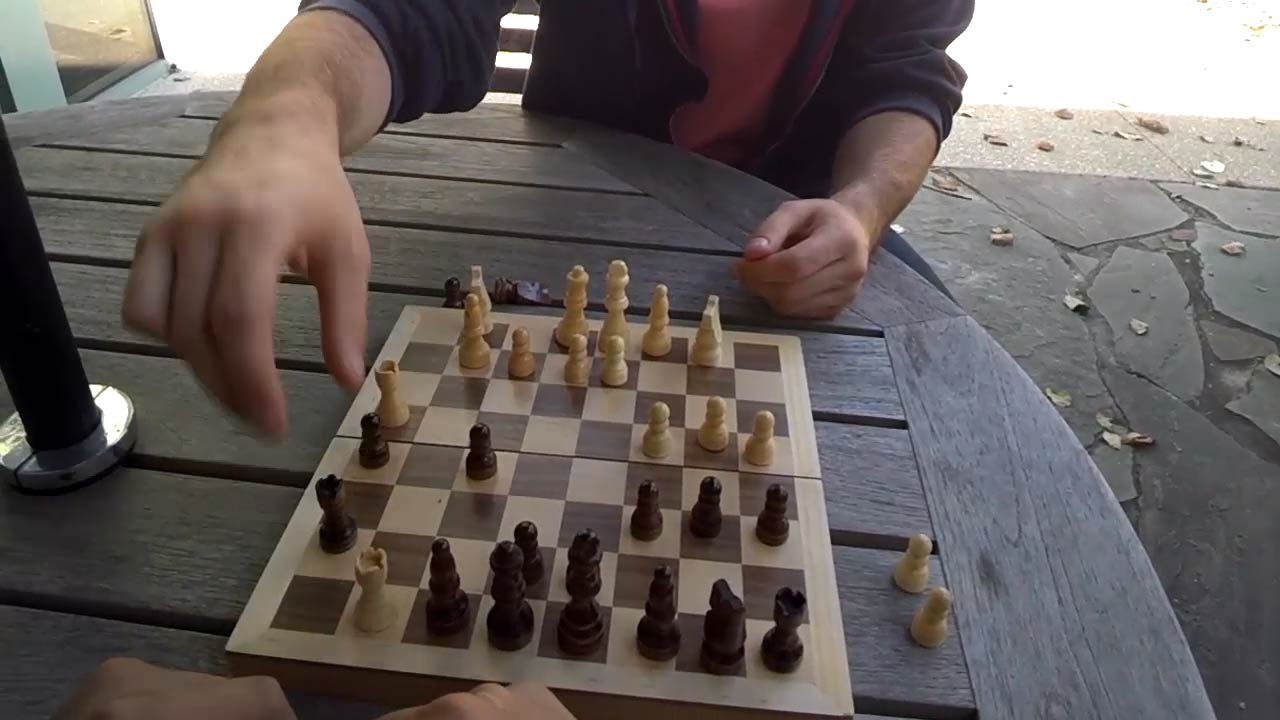hand: (129, 113, 372, 430), (736, 203, 868, 315), (48, 664, 299, 717), (393, 671, 574, 716)
